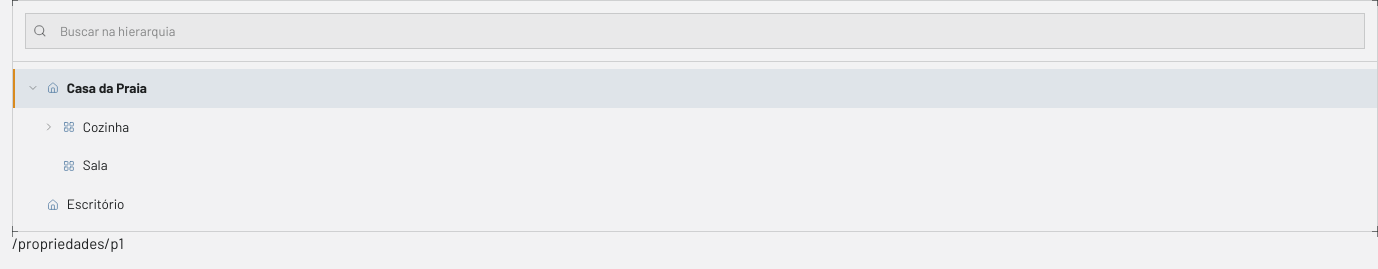
Scenario: AnalysisTree — clique › clicar de novo na propriedade selecionada recolhe seus filhos
Expected: the element showing "Casa da Praia Cozinha Sala Escritório" is shown, 13,69 -> 1377,224
Click the list item "Casa da Praia".
click(695, 88)  # box 13,69 -> 1377,108
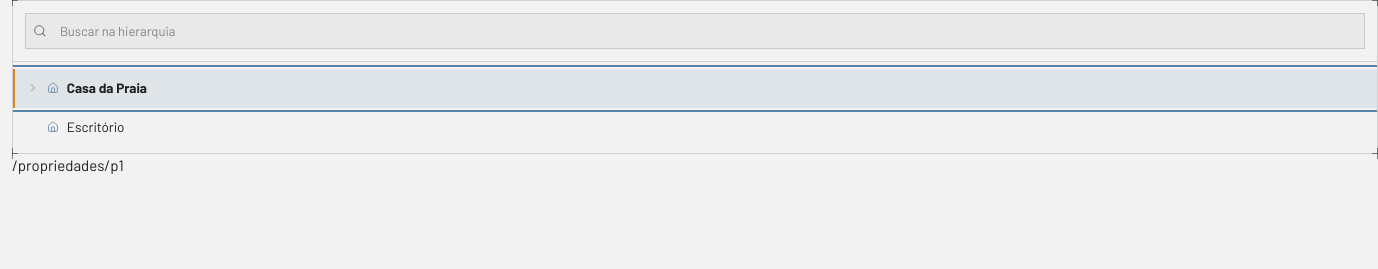
Expected: the text "Cozinha" is gone
